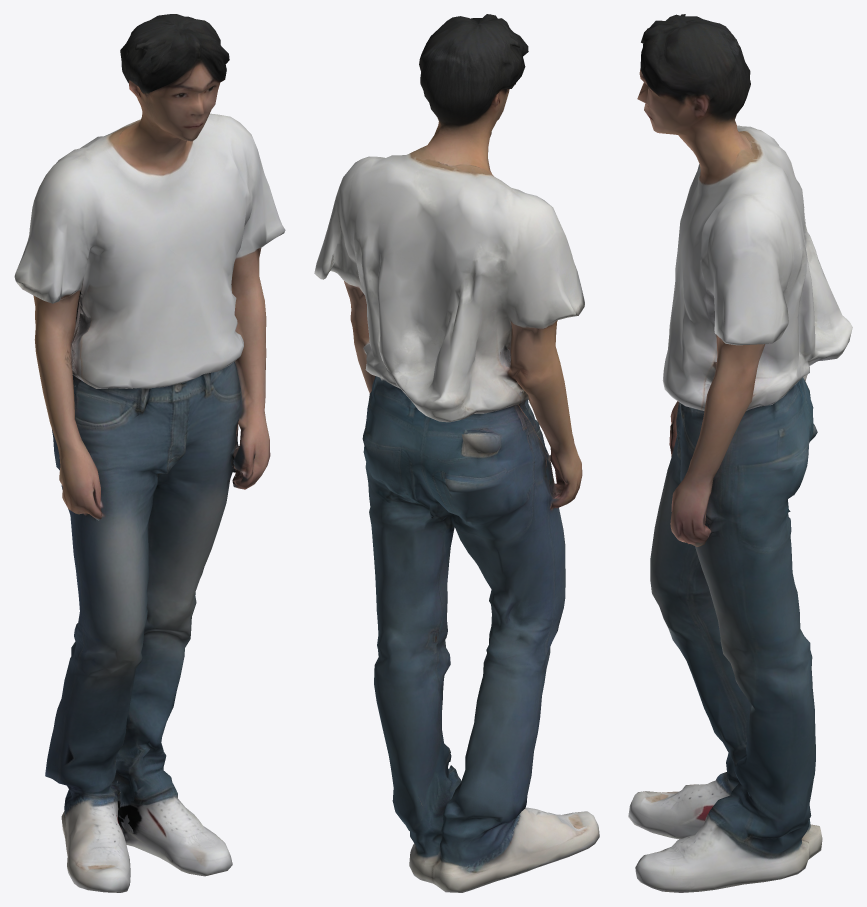
File: asian_men_casual.glb
3 renders of one model, left to right at view 1: azimuth 30°, elevation 25°; view 2: azimuth 150°, elevation 25°; view 3: azimuth 270°, elevation 25°, orthographic. The views are drawn at different scales.
Visible parts, largest first — view 1: Mesh_0_Material.001_0; view 2: Mesh_0_Material.001_0; view 3: Mesh_0_Material.001_0.
Part boxes in pixels (bbox=[...]): Mesh_0_Material.001_0: bbox=[14, 14, 285, 892]; Mesh_0_Material.001_0: bbox=[314, 14, 599, 892]; Mesh_0_Material.001_0: bbox=[628, 14, 852, 892].
Size of the model in its own units: 0.6491 by 1.99 by 0.4766.
Materials: 1 (1 with a texture image).
